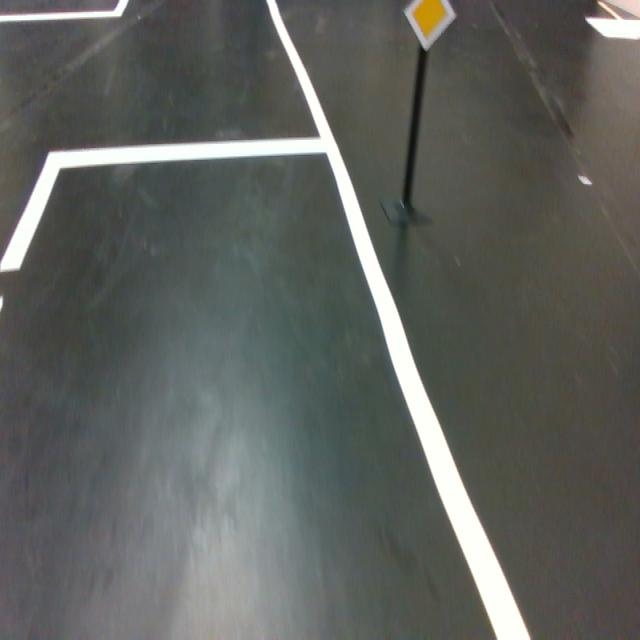priority-sign: (402, 0, 457, 52)
